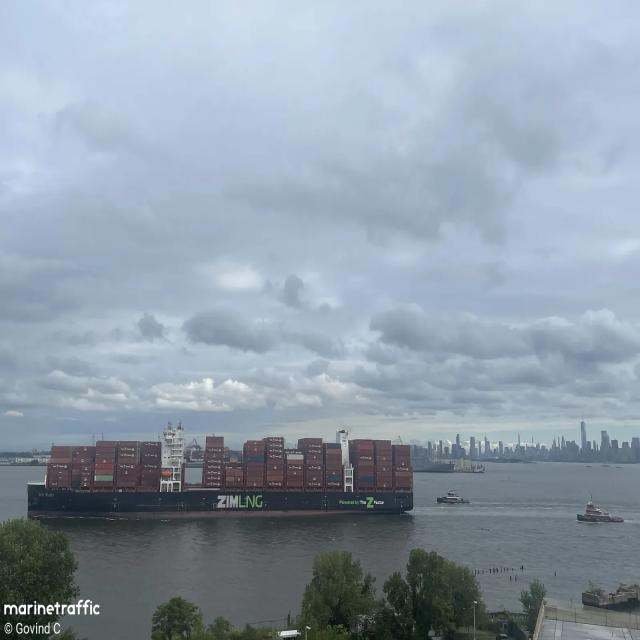Cargo: (28, 425, 413, 515)
